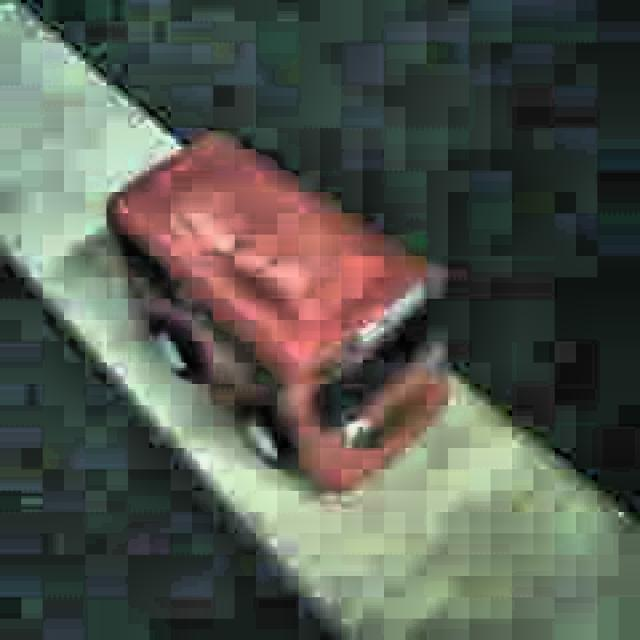bus: (104, 132, 452, 498)
